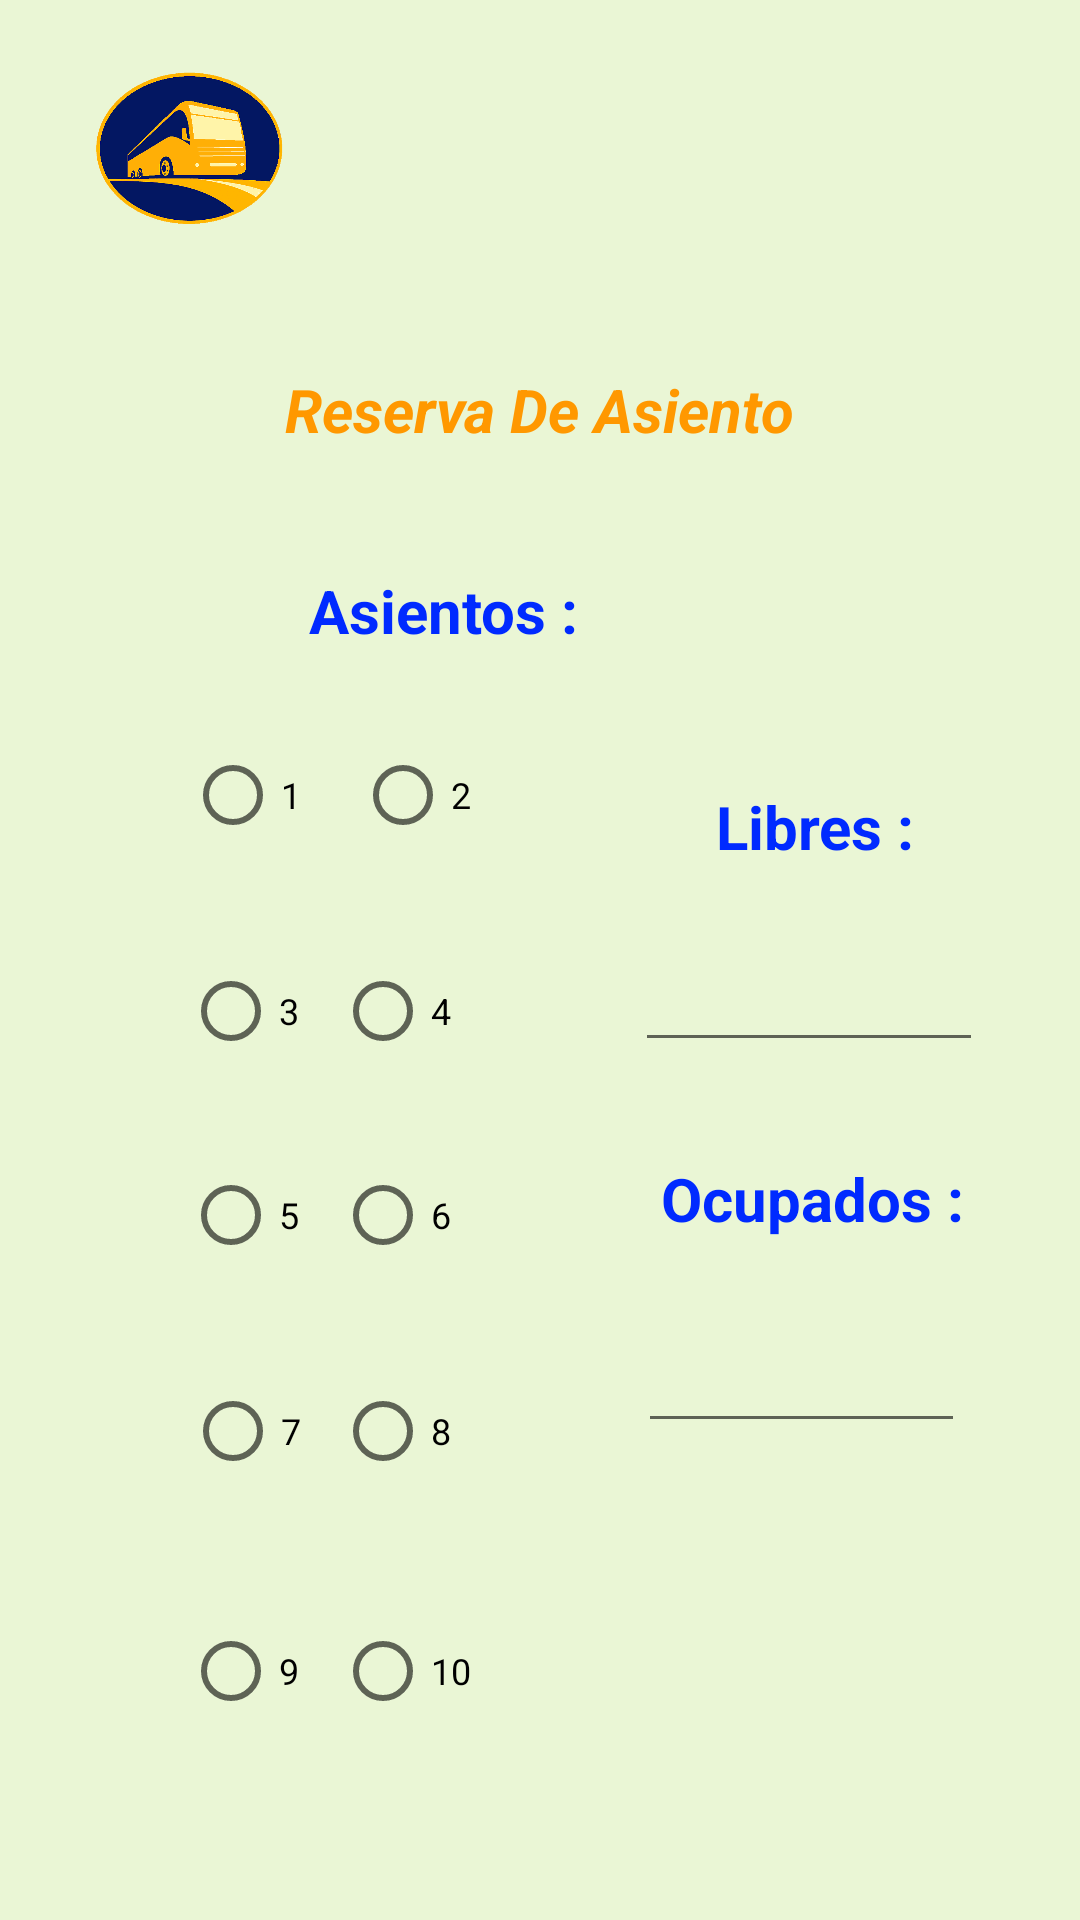

Named icons in this screenshot (1080*1920) and their bounding boxes, (x1, y1, x2, y2):
bus: (96, 72, 282, 224)
